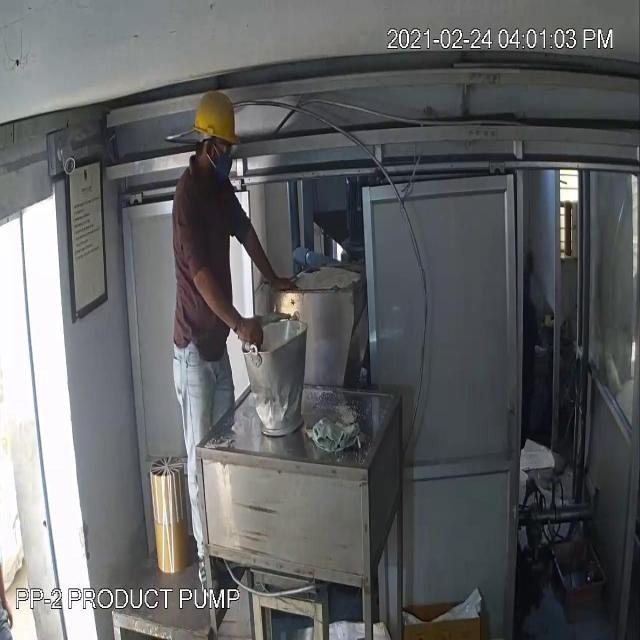helmet: (187, 87, 243, 145)
